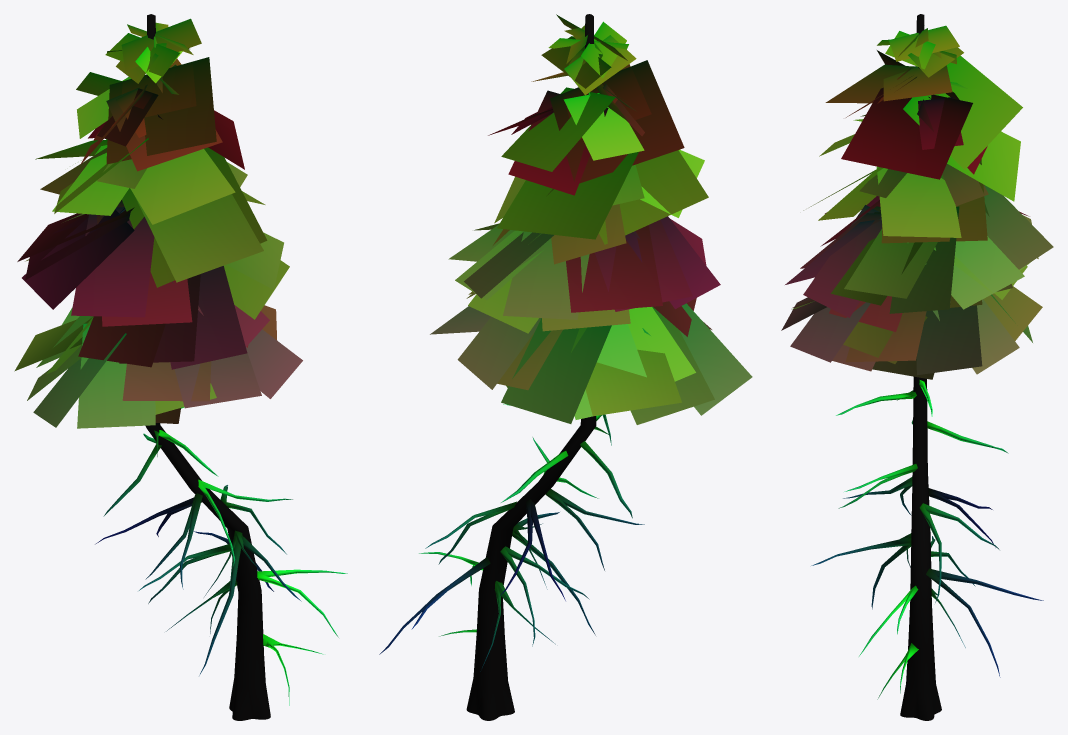
Rendered from M_Pine_4_14.fbx.
3 renders of one model, left to right at view 1: azimuth 30°, elevation 25°; view 2: azimuth 150°, elevation 25°; view 3: azimuth 270°, elevation 25°, orthographic. The views are drawn at different scales.
Visible parts, largest first — view 1: Tree_14; view 2: Tree_14; view 3: Tree_14.
Boxes of the visible parts, <box> form: Tree_14: <box>14,14,347,720</box>; Tree_14: <box>379,14,752,720</box>; Tree_14: <box>781,14,1053,720</box>.
Bounding box in the file's own units: 1071 × 2347 × 886.
